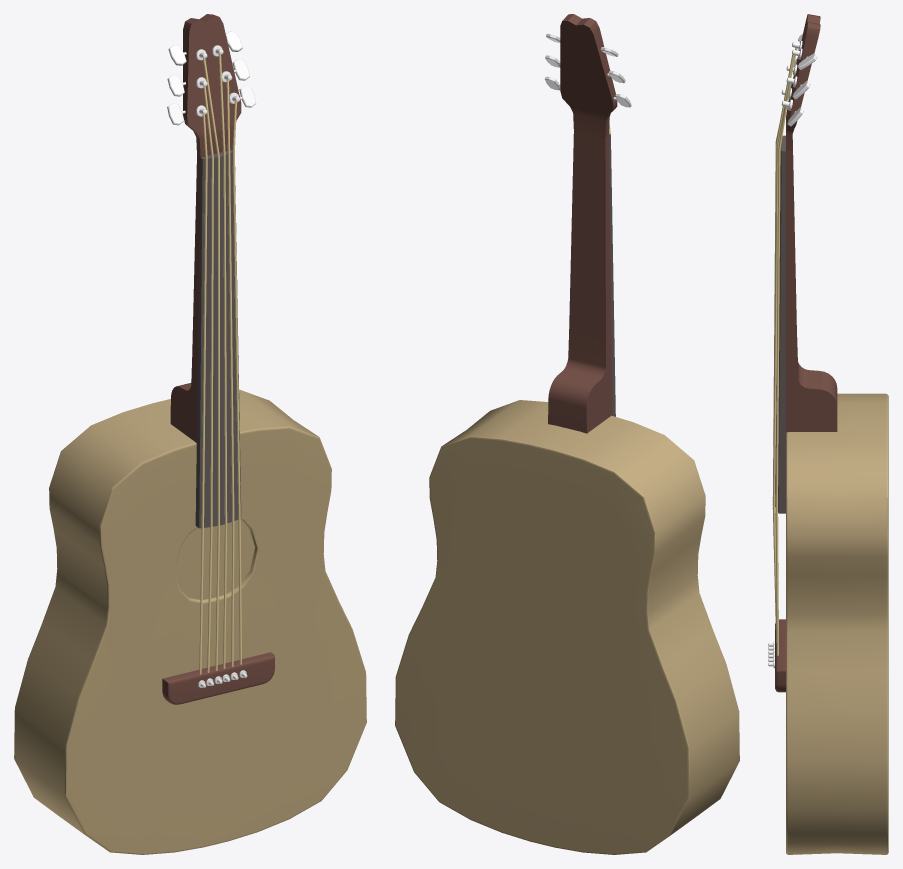
File: SM_Guitar.fbx
3 views of the same model, side by side, from view 1: azimuth 30°, elevation 25°; view 2: azimuth 150°, elevation 25°; view 3: azimuth 270°, elevation 25° (orthographic). The views are drawn at different scales.
Visible parts, largest first — view 1: GuitarBody, pCube2, pCylinder14, pCube4; view 2: GuitarBody, pCube2; view 3: GuitarBody, pCube2, pCylinder14, pCube4.
Part boxes in pixels (x1,y1,x2,y2): GuitarBody: (14, 389, 366, 854); pCube2: (170, 14, 241, 528); pCylinder14: (199, 53, 241, 674); pCube4: (162, 652, 274, 704); GuitarBody: (395, 400, 739, 854); pCube2: (548, 14, 617, 433); GuitarBody: (786, 393, 888, 854); pCube2: (775, 14, 837, 513); pCylinder14: (772, 47, 797, 655); pCube4: (775, 619, 785, 692).
Size of the model in its own units: 12.08 by 31.24 by 4.24.
